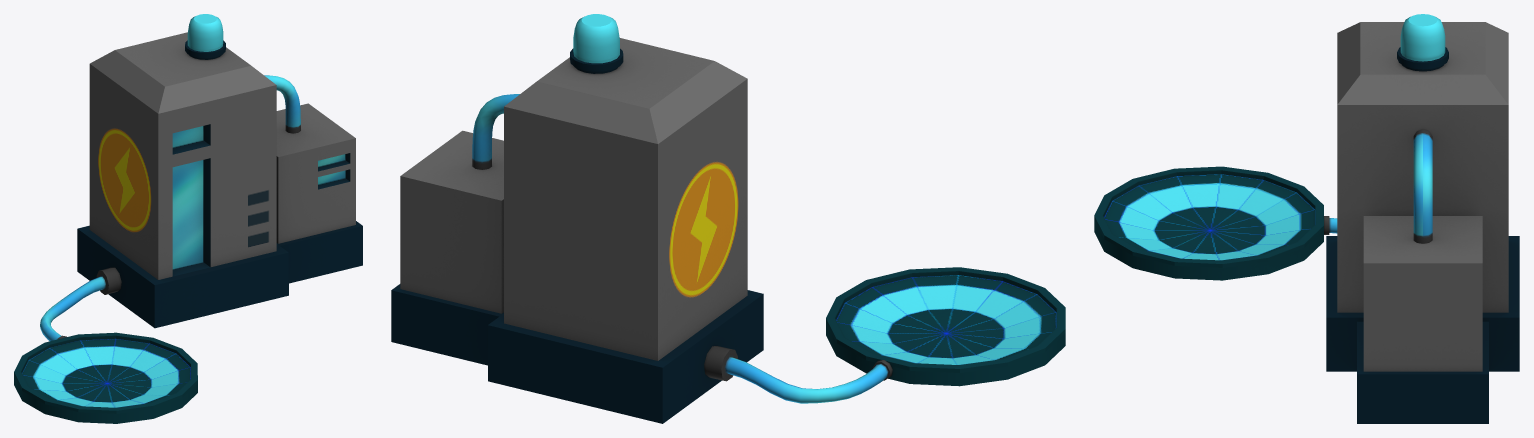
The model's file is Resporn.fbx.
The picture shows the model from 3 angles, left to right: view 1: azimuth 30°, elevation 25°; view 2: azimuth 150°, elevation 25°; view 3: azimuth 270°, elevation 25°; orthographic projection. The views are drawn at different scales.
Parts seen in each view (by area): view 1: polySurface1; view 2: polySurface1; view 3: polySurface1.
Part boxes in pixels (x1=…): polySurface1: x1=14, y1=14, x2=362, y2=423; polySurface1: x1=391, y1=14, x2=1065, y2=423; polySurface1: x1=1094, y1=14, x2=1519, y2=423.
Bounding box in the file's own units: 294 × 185 × 220.
Materials: 1 (1 with a texture image).
